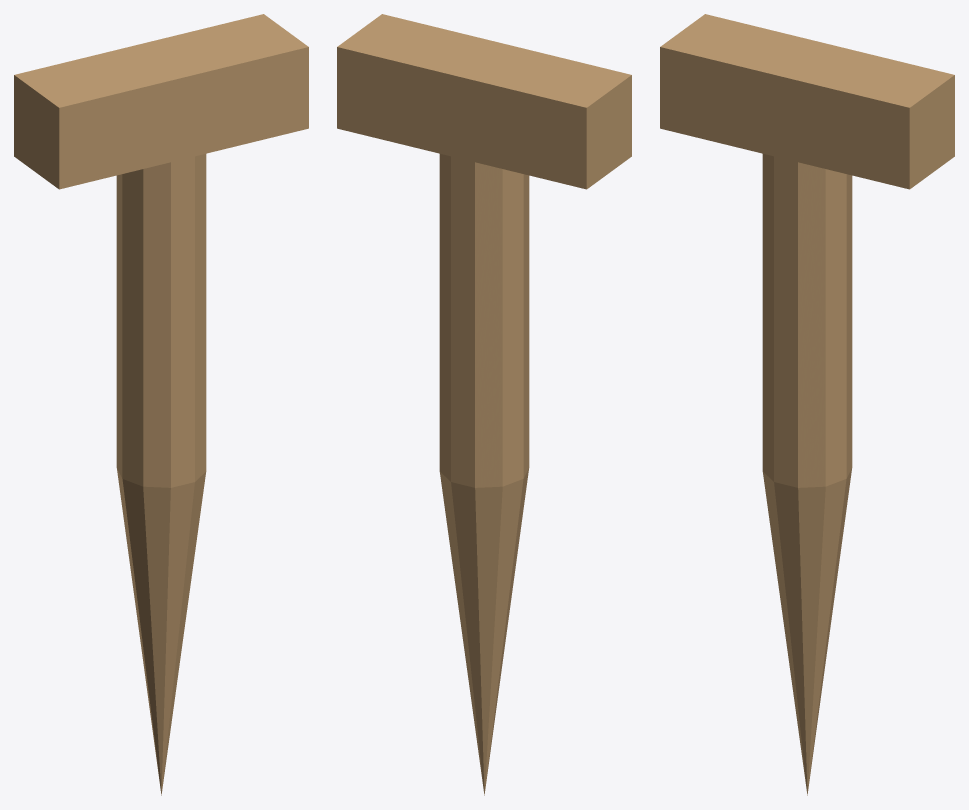
File: cozy-farm-and-homestead-planting-dibber-6d3d9237__19407.glb
3 renders of one model, left to right at view 1: azimuth 30°, elevation 25°; view 2: azimuth 150°, elevation 25°; view 3: azimuth 330°, elevation 25°, orthographic.
Parts seen in each view (by area): view 1: planting-dibber; view 2: planting-dibber; view 3: planting-dibber.
Part boxes in pixels (left/top/right/bottom): planting-dibber: left=14, top=14, right=308, bottom=795; planting-dibber: left=337, top=14, right=631, bottom=795; planting-dibber: left=660, top=14, right=954, bottom=795.
Bounding box in the file's own units: 0.16 × 0.45 × 0.05.
